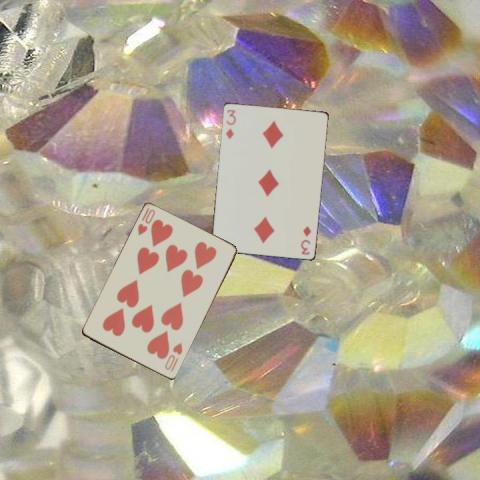10h: (161, 340, 184, 373), (134, 205, 156, 237)
3d: (222, 106, 236, 140), (298, 223, 312, 256)
